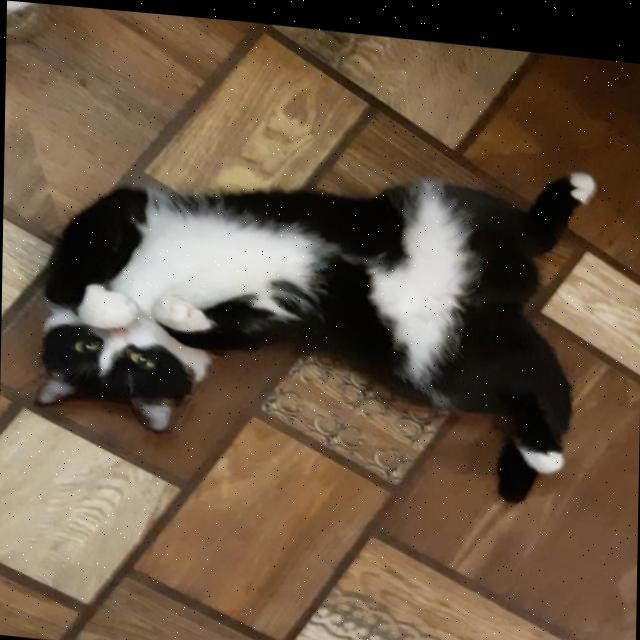Cats: (0, 123, 609, 491)
